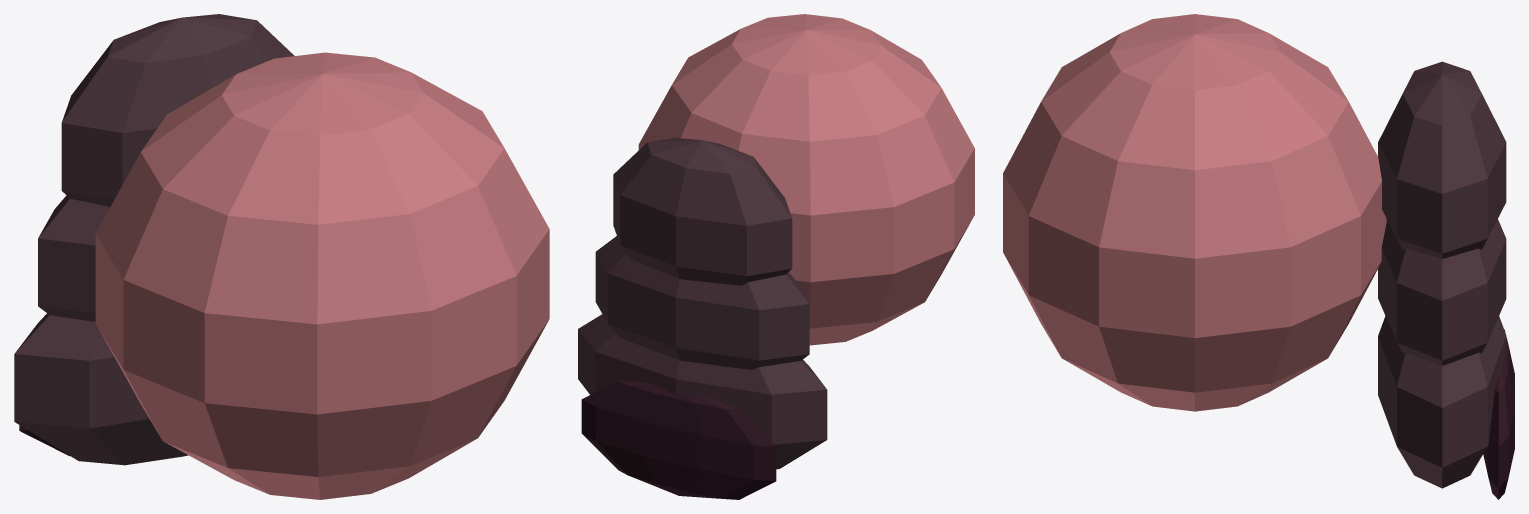
File: dreadmeld_head.obj
3 views of the same model, side by side, from view 1: azimuth 30°, elevation 25°; view 2: azimuth 150°, elevation 25°; view 3: azimuth 270°, elevation 25° (orthographic). The views are drawn at different scales.
Visible parts, largest first — view 1: dreadmeld_head; view 2: dreadmeld_head; view 3: dreadmeld_head.
Part boxes in pixels (box(x1,y1,x2,y2)): dreadmeld_head: box(14, 14, 549, 499); dreadmeld_head: box(578, 14, 974, 499); dreadmeld_head: box(1003, 14, 1514, 499).
Bounding box in the file's own units: 1.01 × 1.22 × 1.27.
